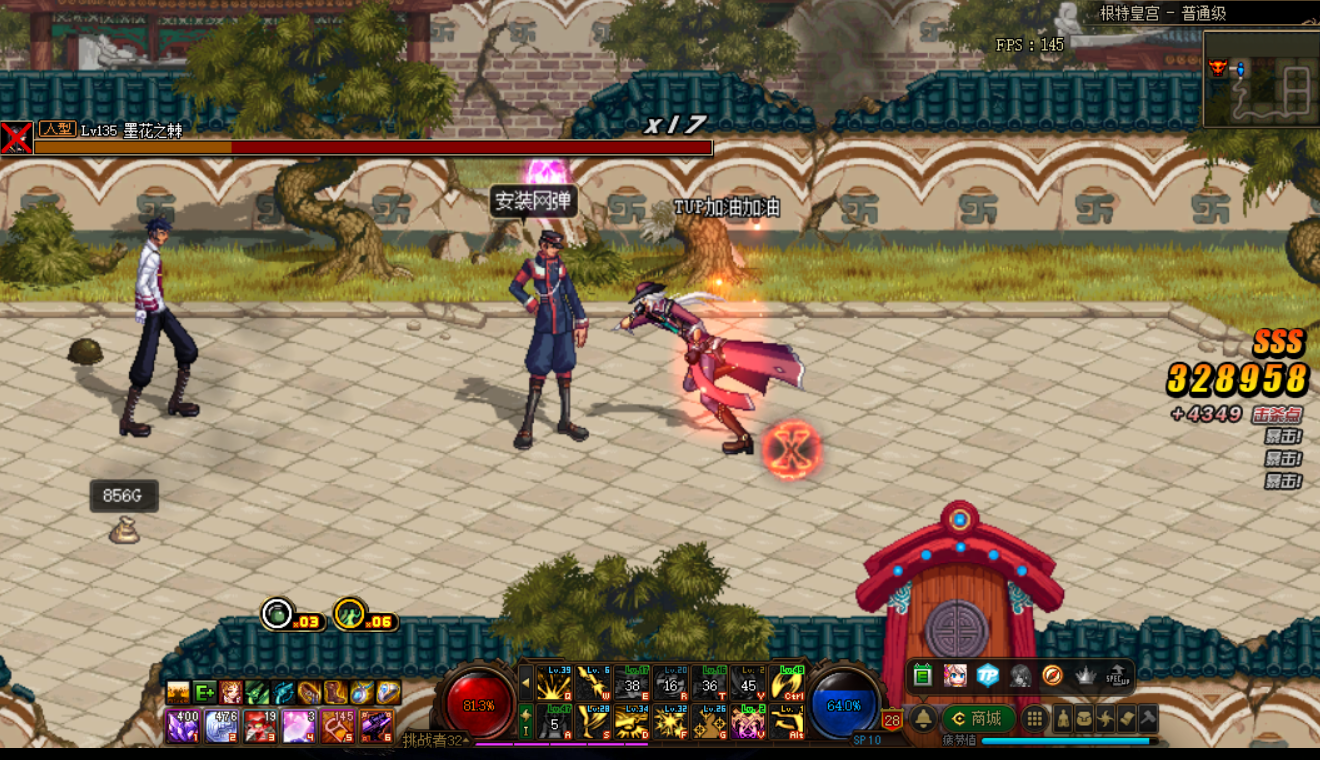monster: (497, 229, 604, 453), (126, 207, 206, 440)
warrior: (616, 282, 823, 464)
